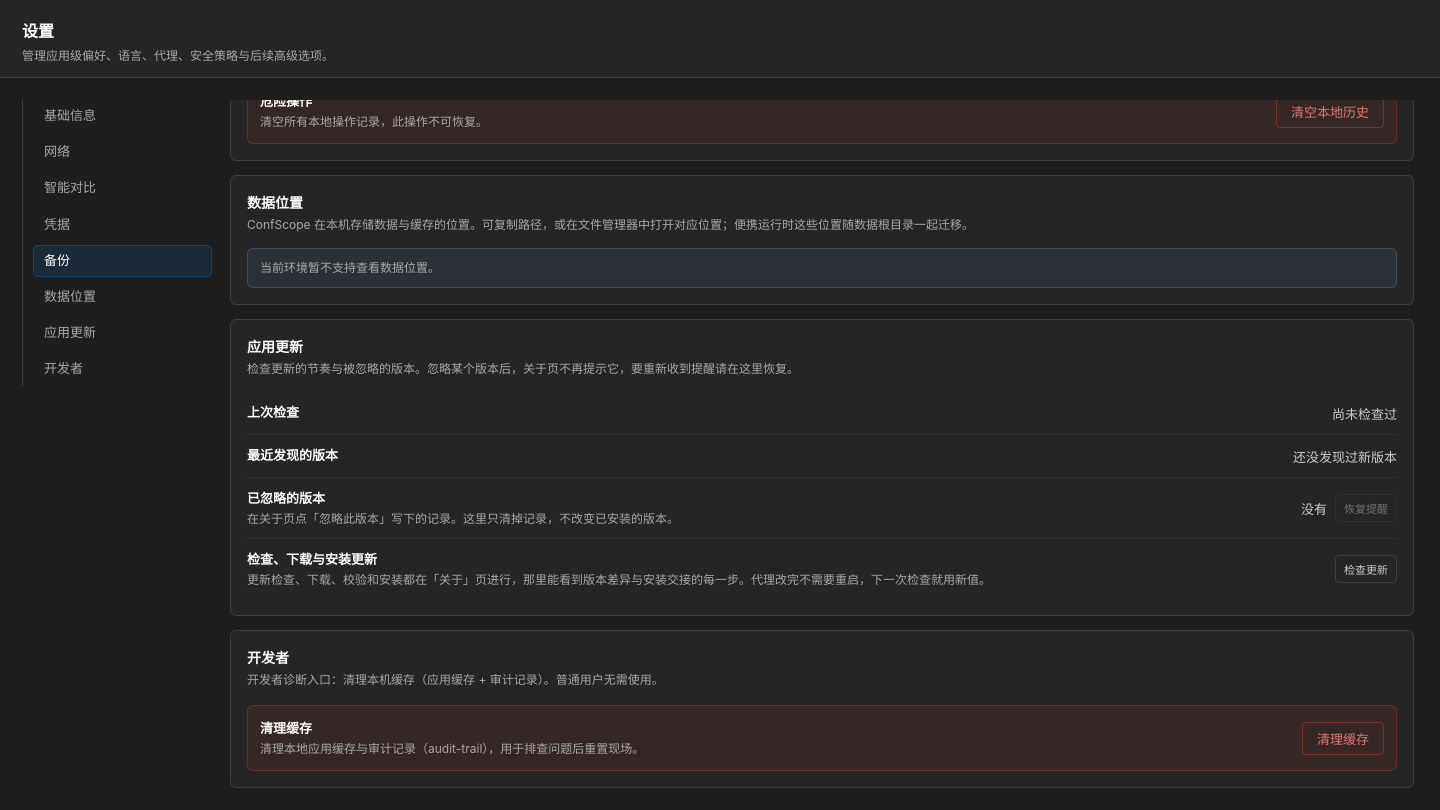
Test: SettingsView › keeps dismissing the cache confirmation without any cleanup
(page scrolled)
Click the button "清理缓存" at (1343, 738), box [1302,722,1384,754]
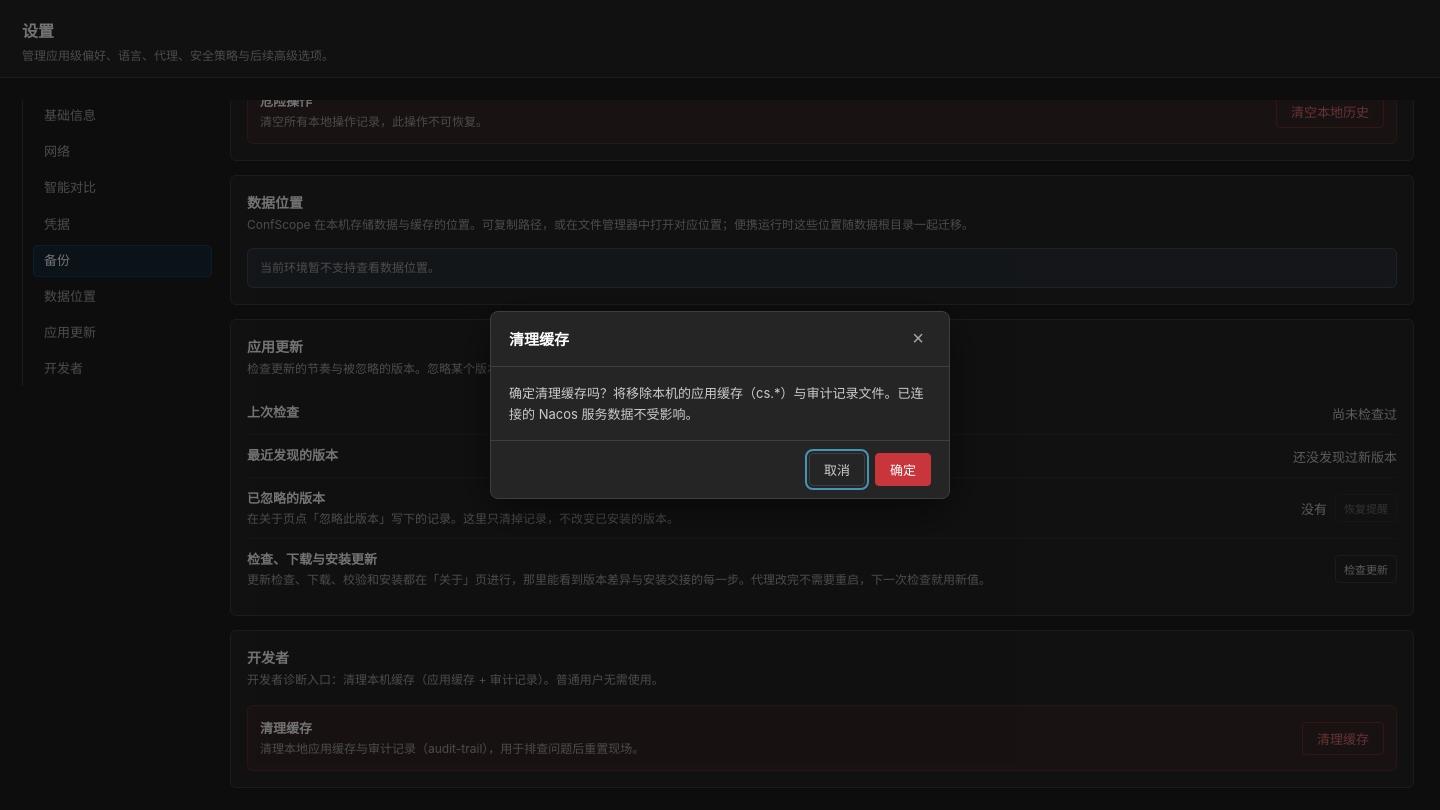
Press Escape
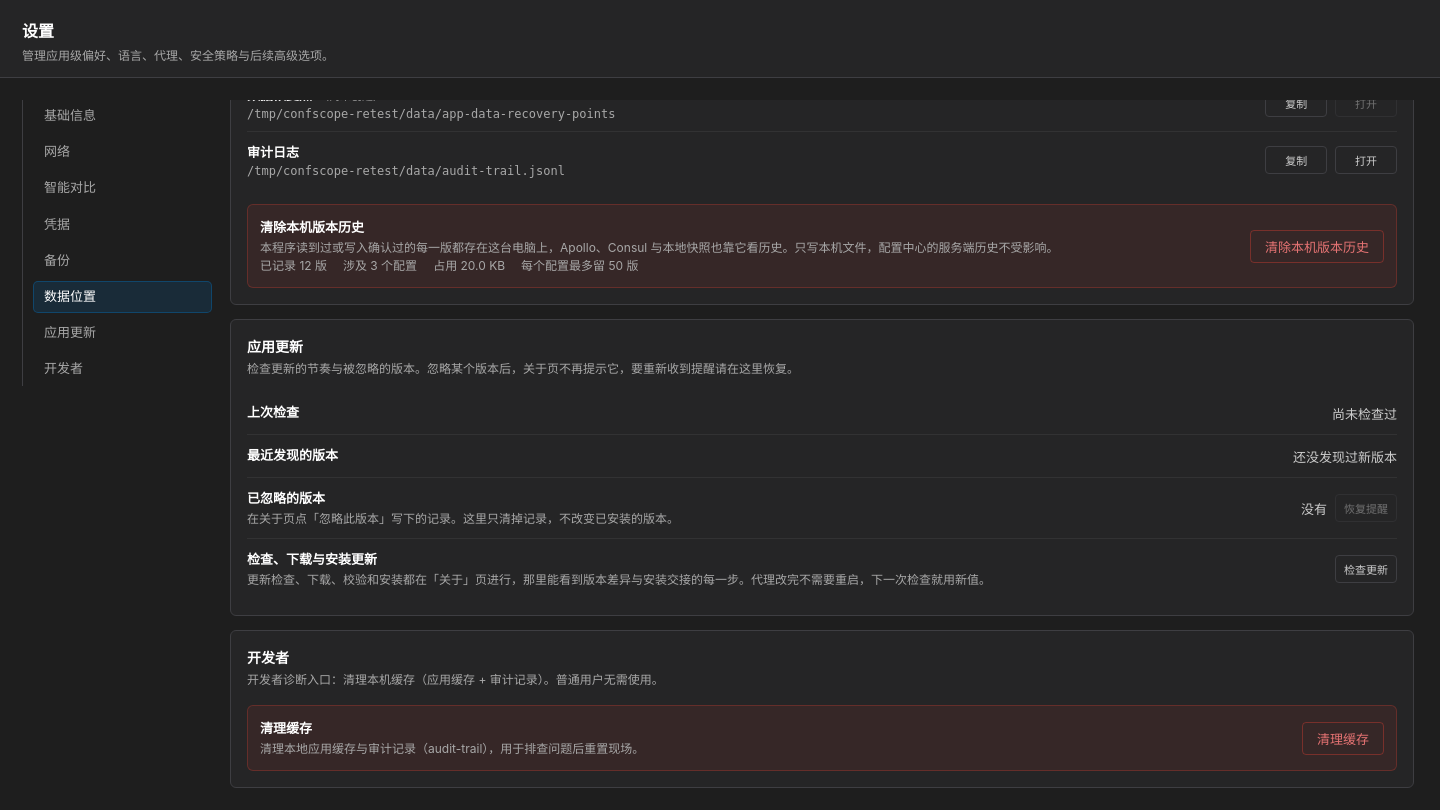
Check: the text "确定清理缓存吗" is gone
